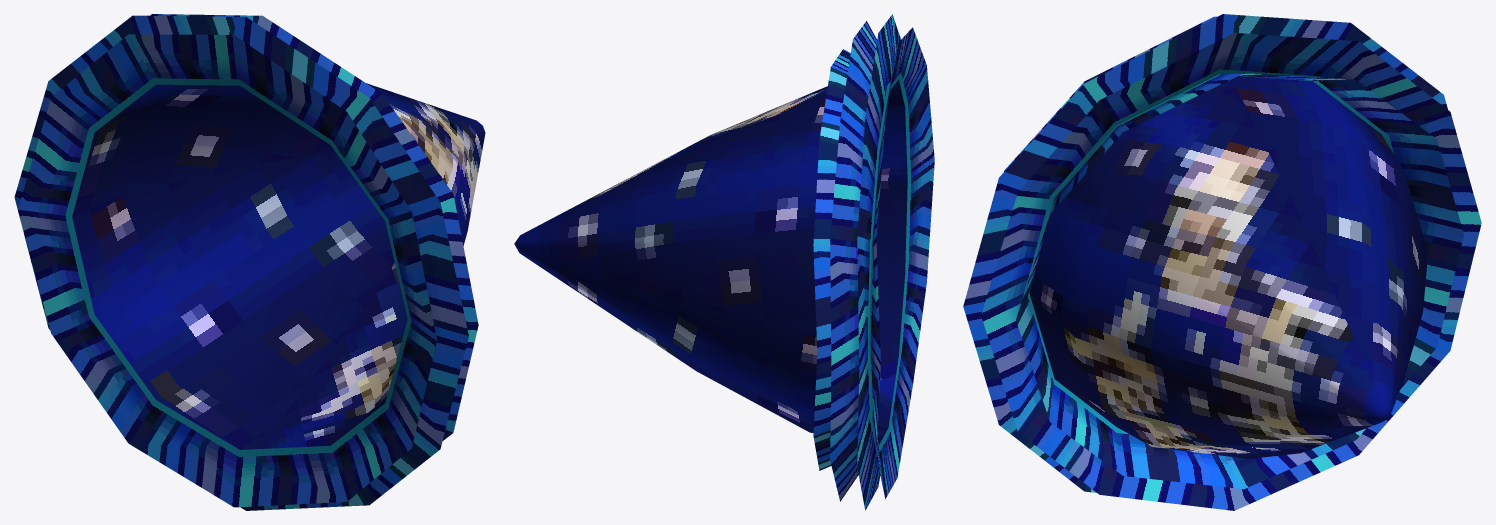
Rendered from cap_newyear_cone.dae.
The picture shows the model from 3 angles, left to right: view 1: azimuth 30°, elevation 25°; view 2: azimuth 150°, elevation 25°; view 3: azimuth 270°, elevation 25°; orthographic projection. The views are drawn at different scales.
Parts seen in each view (by area): view 1: cap_newyear_cone; view 2: cap_newyear_cone; view 3: cap_newyear_cone.
Boxes of the visible parts, x1,y1,x2,y2 form: cap_newyear_cone: (14, 14, 485, 510); cap_newyear_cone: (514, 14, 934, 510); cap_newyear_cone: (963, 14, 1481, 510).
Bounding box in the file's own units: 26.16 × 28.67 × 27.25.
2 materials, 2 textured.
